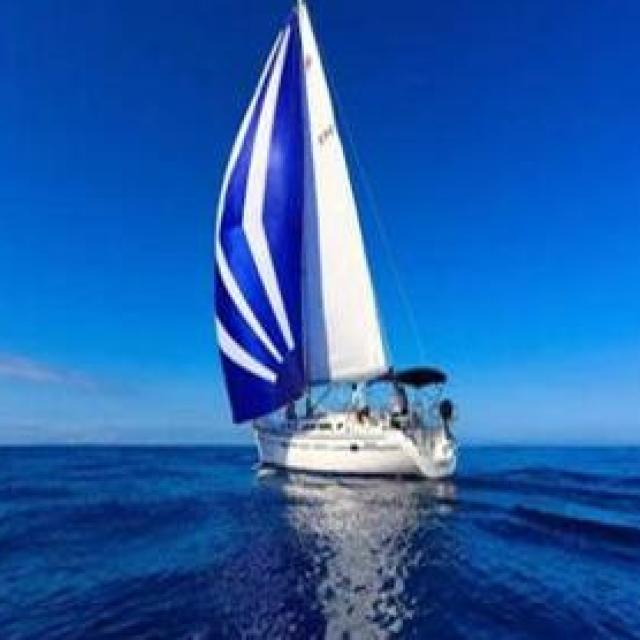sailboat: (187, 0, 493, 490)
